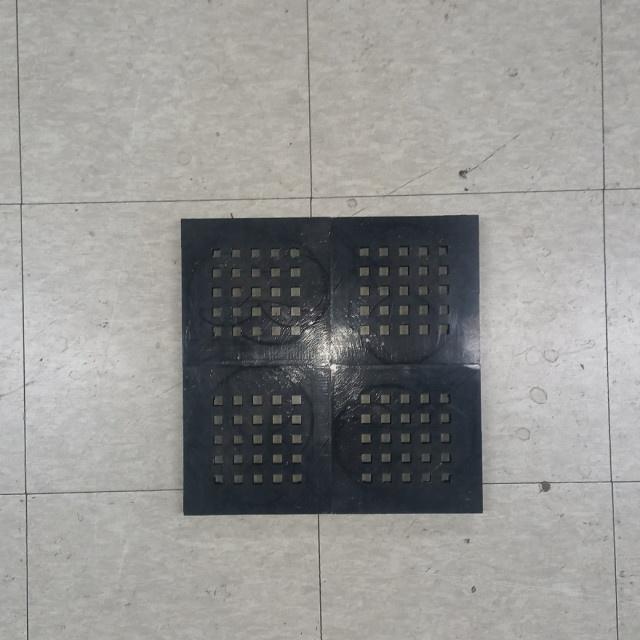pallet: (172, 210, 486, 524)
